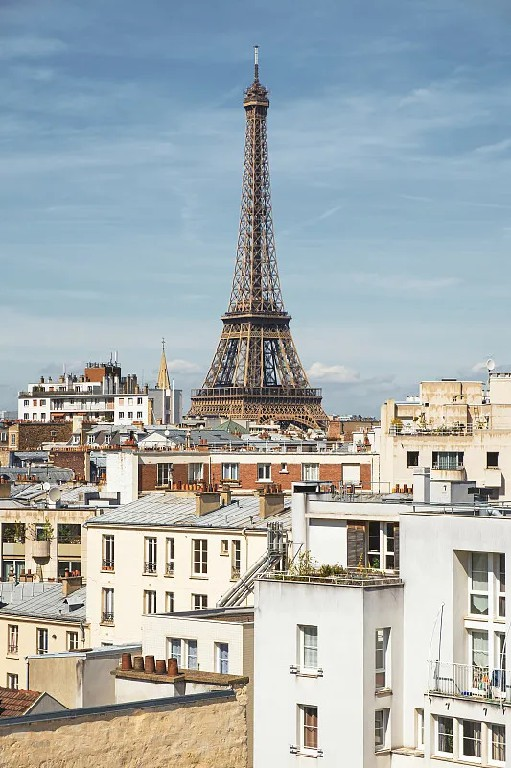Eiffel: (173, 46, 330, 434)
